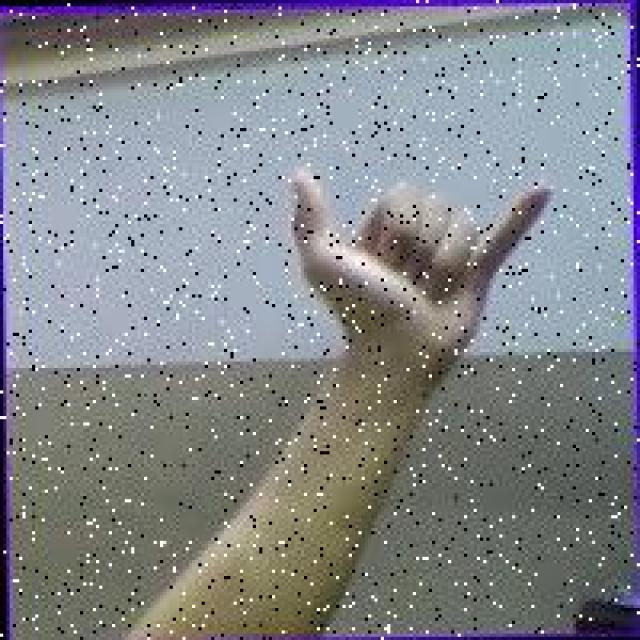Y: (284, 152, 558, 370)
